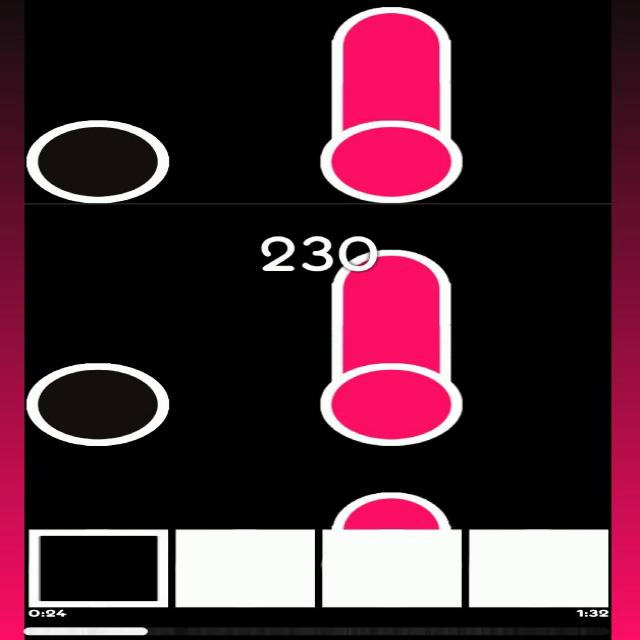end_hold: (324, 243, 458, 292), (326, 4, 457, 53), (328, 482, 458, 530)
note: (26, 362, 170, 446), (28, 120, 170, 203)
start_hold: (319, 102, 464, 202), (320, 350, 464, 445)
